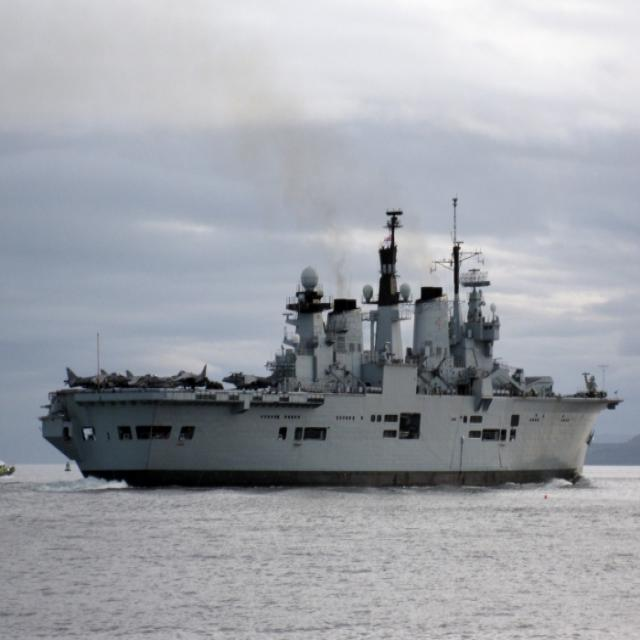Portanaves: (38, 190, 627, 496)
